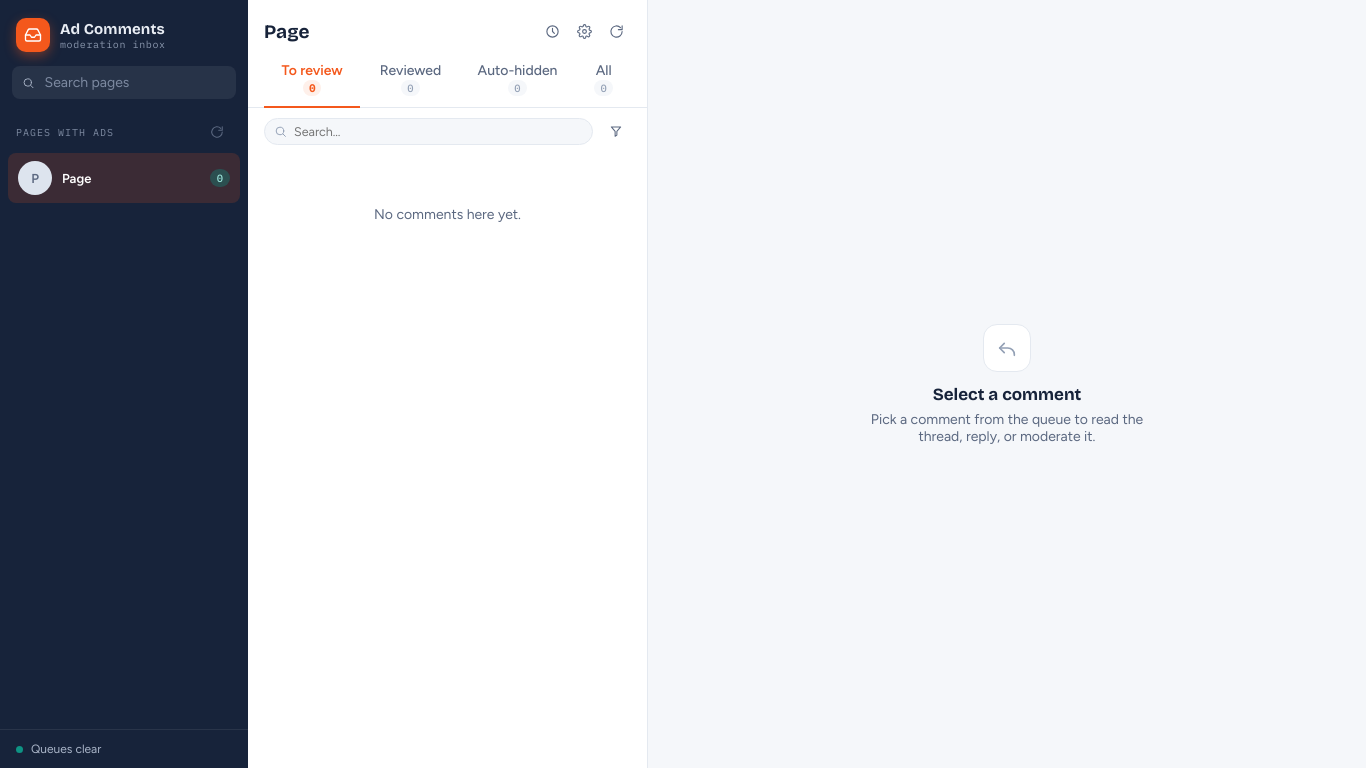
Scenario: clears a removed page selection and stops requesting its comments
Click the button named "Re-sync pages and ads". click: (217, 132)
box: [202,117,232,147]
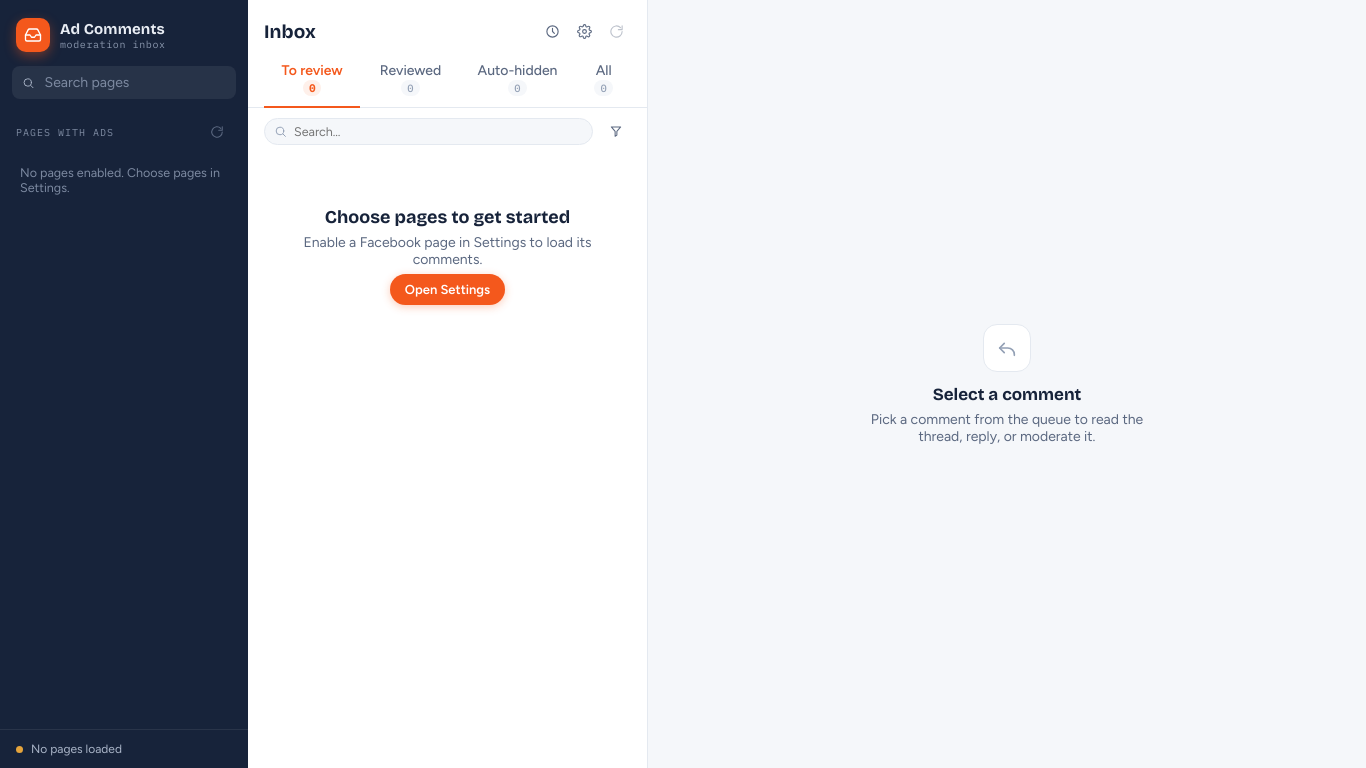
Expected: the text "Choose pages to get started" is shown, [325,206,570,228]
Expected: the button named "Refresh comments" is disabled, [601,16,631,46]
